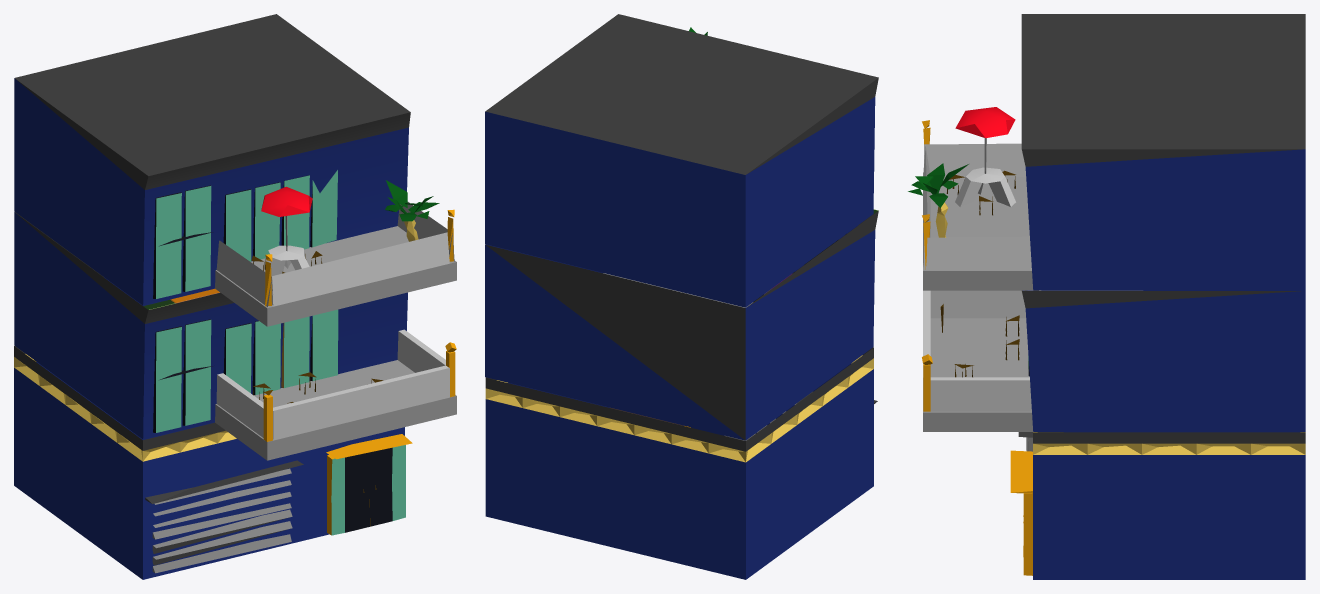
Rendered from PredioCentroAzulLOD2.fbx.
3 renders of one model, left to right at view 1: azimuth 30°, elevation 25°; view 2: azimuth 150°, elevation 25°; view 3: azimuth 270°, elevation 25°, orthographic. The views are drawn at different scales.
Visible parts, largest first — view 1: PredioFundacaoLOD2.002, Andar2LOD2.002, Andar1LOD2.002, GaragemLOD2.002; view 2: PredioFundacaoLOD2.002; view 3: PredioFundacaoLOD2.002, Andar2LOD2.002, Andar1LOD2.002.
Boxes of the visible parts, x1,y1,x2,y2 form: PredioFundacaoLOD2.002: [14, 14, 412, 579]; Andar2LOD2.002: [215, 180, 456, 326]; Andar1LOD2.002: [215, 329, 456, 460]; GaragemLOD2.002: [145, 460, 303, 573]; PredioFundacaoLOD2.002: [485, 14, 878, 579]; PredioFundacaoLOD2.002: [940, 14, 1305, 579]; Andar2LOD2.002: [908, 107, 1142, 290]; Andar1LOD2.002: [922, 290, 1040, 431].
Bounding box in the file's own units: 782 × 1161 × 970.
Materials: 1 (1 with a texture image).
